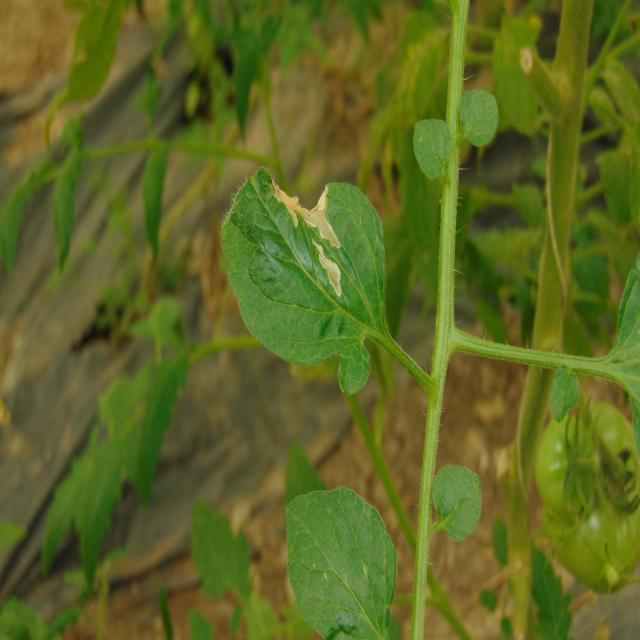Tuta absoluta: (273, 172, 342, 259), (309, 235, 351, 297), (325, 263, 346, 297)
